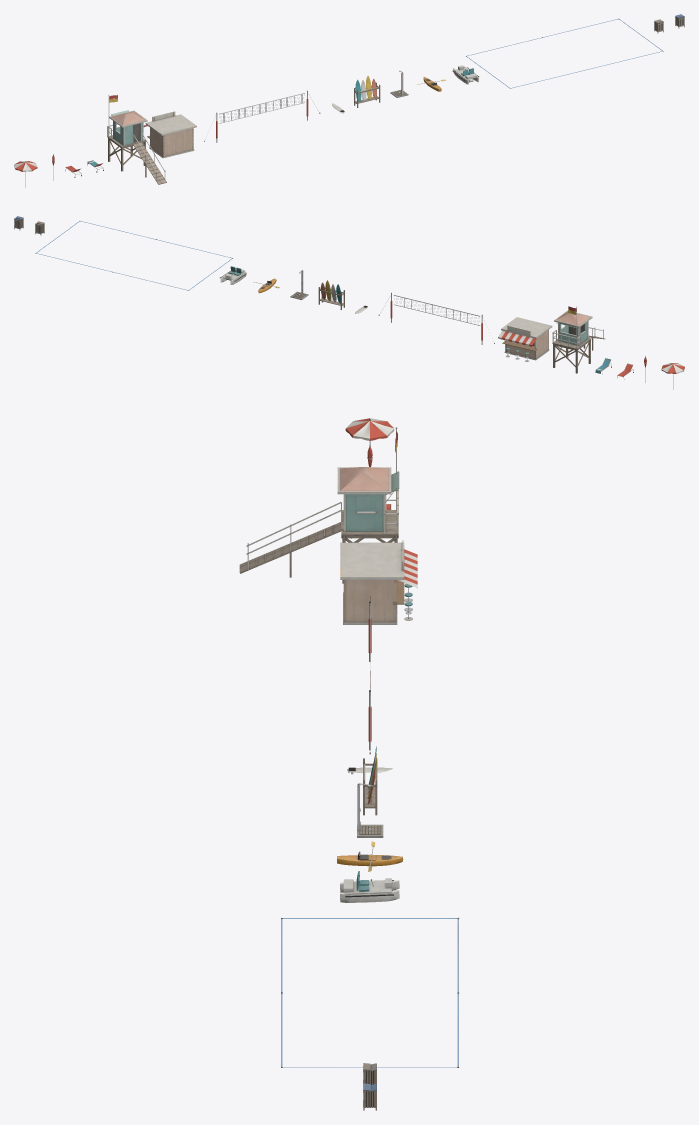
Rendered from set_beach.glb.
3 views of the same model, one above another, from view 1: azimuth 30°, elevation 25°; view 2: azimuth 150°, elevation 25°; view 3: azimuth 270°, elevation 25° (orthographic). The views are drawn at different scales.
Parts seen in each view (by area): view 1: lifeguard_tower_lod0, beach_bar_kiosk_lod0, surfboard_rack_lod0, volleyball_net_lod0, court_lines_lod0, pedal_boat_lod0; view 2: lifeguard_tower_lod0, beach_bar_kiosk_lod0, surfboard_rack_lod0, volleyball_net_lod0, court_lines_lod0, pedal_boat_lod0; view 3: lifeguard_tower_lod0, beach_bar_kiosk_lod0, pedal_boat_lod0.
Boxes of the visible parts, bbox=[...] form: lifeguard_tower_lod0: bbox=[107, 95, 166, 184]; beach_bar_kiosk_lod0: bbox=[143, 111, 196, 158]; surfboard_rack_lod0: bbox=[354, 76, 380, 107]; volleyball_net_lod0: bbox=[204, 90, 320, 142]; court_lines_lod0: bbox=[466, 18, 663, 88]; pedal_boat_lod0: bbox=[452, 65, 478, 84]; lifeguard_tower_lod0: bbox=[552, 306, 605, 373]; beach_bar_kiosk_lod0: bbox=[498, 317, 552, 361]; surfboard_rack_lod0: bbox=[318, 280, 344, 309]; volleyball_net_lod0: bbox=[378, 292, 494, 344]; court_lines_lod0: bbox=[35, 221, 232, 290]; pedal_boat_lod0: bbox=[220, 266, 246, 284]; lifeguard_tower_lod0: bbox=[239, 427, 399, 583]; beach_bar_kiosk_lod0: bbox=[340, 540, 417, 624]; pedal_boat_lod0: bbox=[340, 871, 399, 902].
Size of what is drawn, in the model's own units: 69.99 by 6.79 by 9.96.
Materials: 2 (2 with a texture image).
